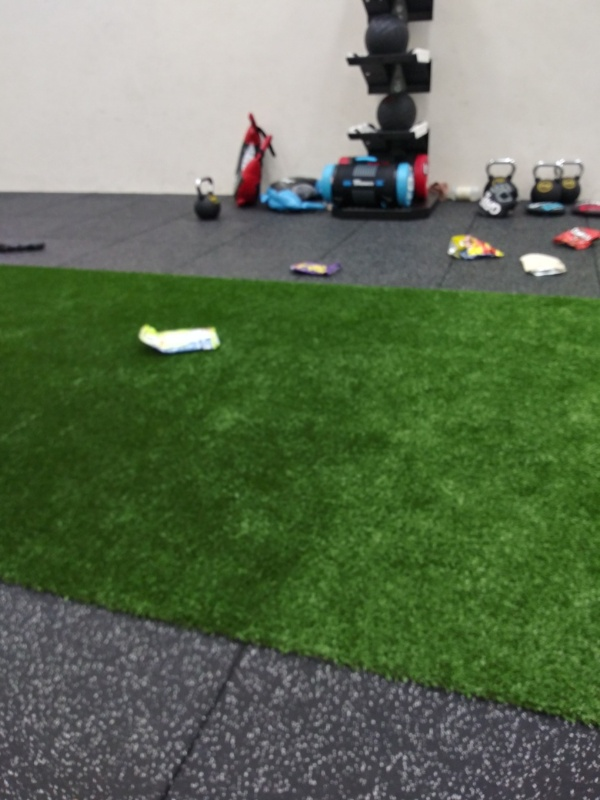bag: (134, 321, 224, 354), (439, 231, 511, 263), (515, 252, 572, 281), (550, 224, 600, 256), (284, 257, 348, 281)
